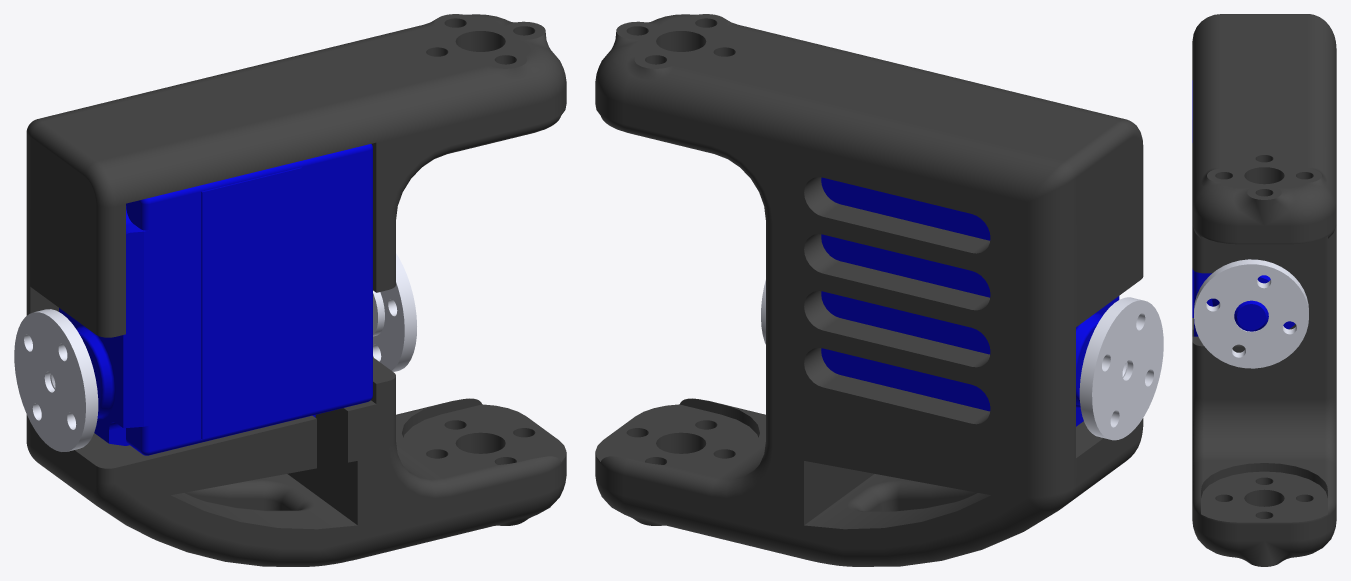
Rendered from Wrist Pitch.glb.
3 views of the same model, side by side, from view 1: azimuth 30°, elevation 25°; view 2: azimuth 150°, elevation 25°; view 3: azimuth 270°, elevation 25° (orthographic). The views are drawn at different scales.
Visible parts, largest first — view 1: Wrist Pitch 0; view 2: Wrist Pitch 0; view 3: Wrist Pitch 0.
Part boxes in pixels (x1=…): Wrist Pitch 0: x1=14, y1=14, x2=566, y2=566; Wrist Pitch 0: x1=595, y1=14, x2=1163, y2=566; Wrist Pitch 0: x1=1192, y1=14, x2=1336, y2=566.
Bounding box in the file's own units: 8.06 × 7.03 × 2.5.
